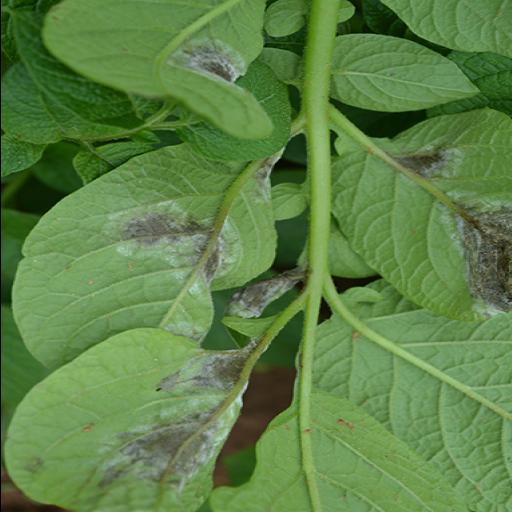Late Blight: (0, 142, 301, 372), (0, 324, 262, 512), (310, 108, 510, 330), (40, 1, 293, 146)
